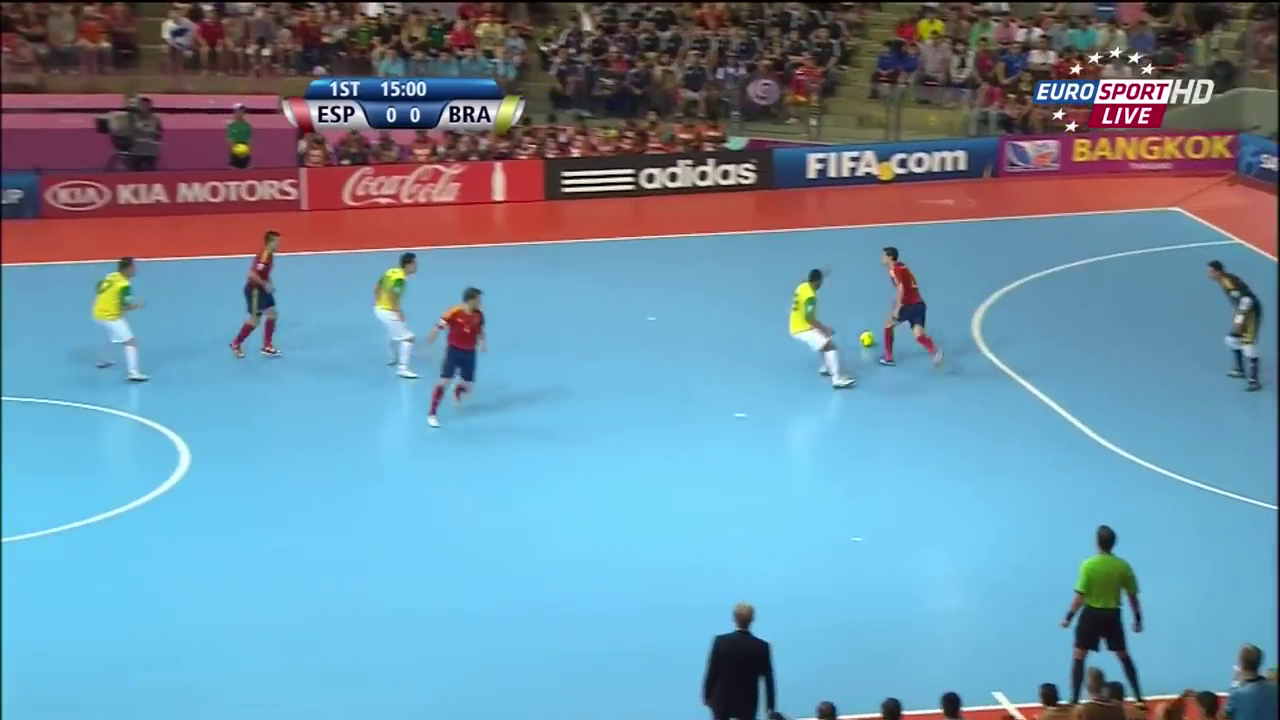ball: (854, 324, 875, 346)
person: (779, 269, 857, 396), (426, 279, 489, 429), (871, 248, 944, 366), (84, 260, 153, 382), (226, 225, 286, 360), (1205, 258, 1265, 387), (367, 245, 423, 376)
